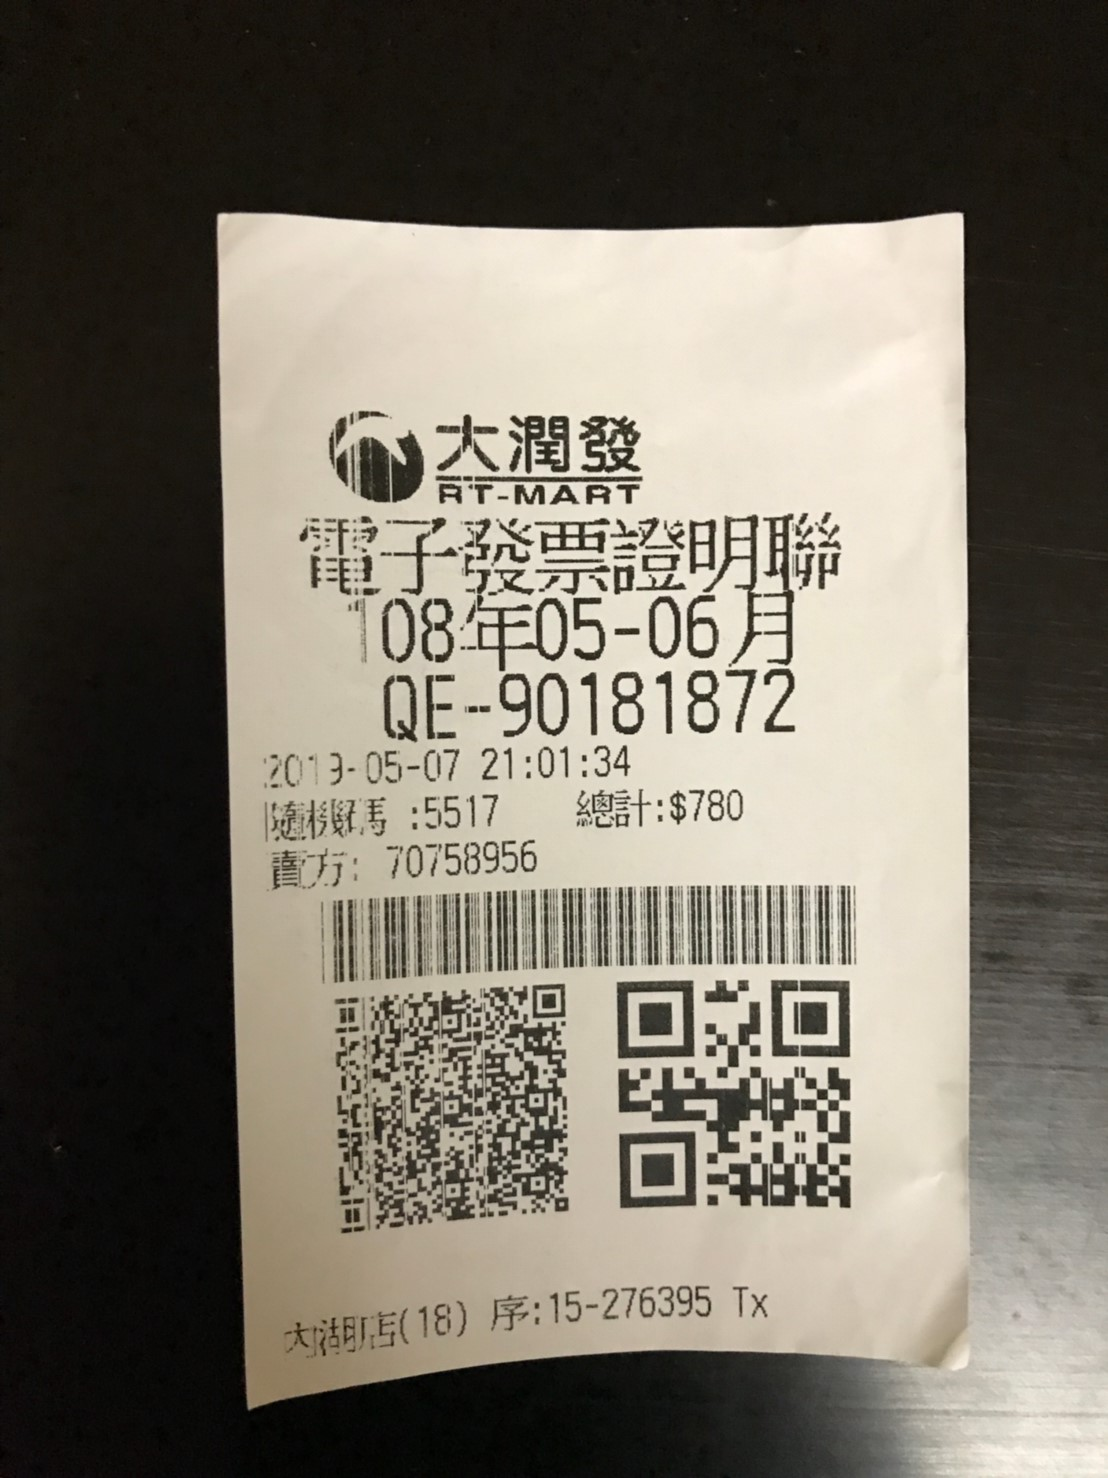Date_New: (347, 585, 807, 672)
Number_New: (498, 667, 794, 736)
